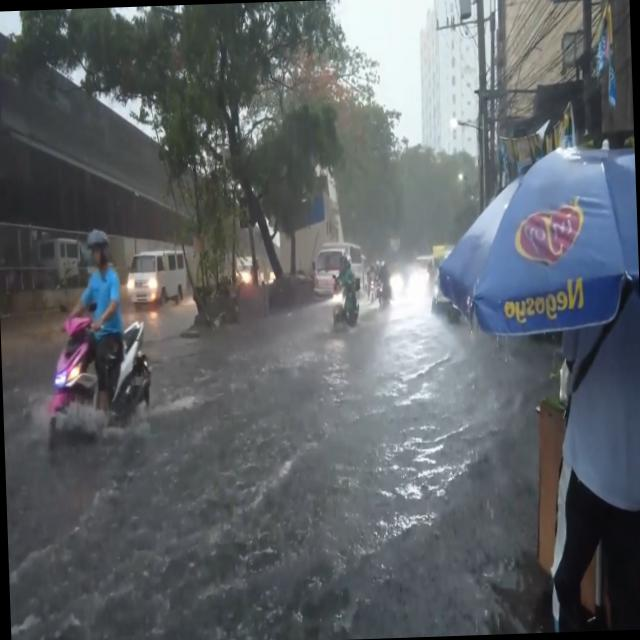half: (84, 226, 112, 270)
